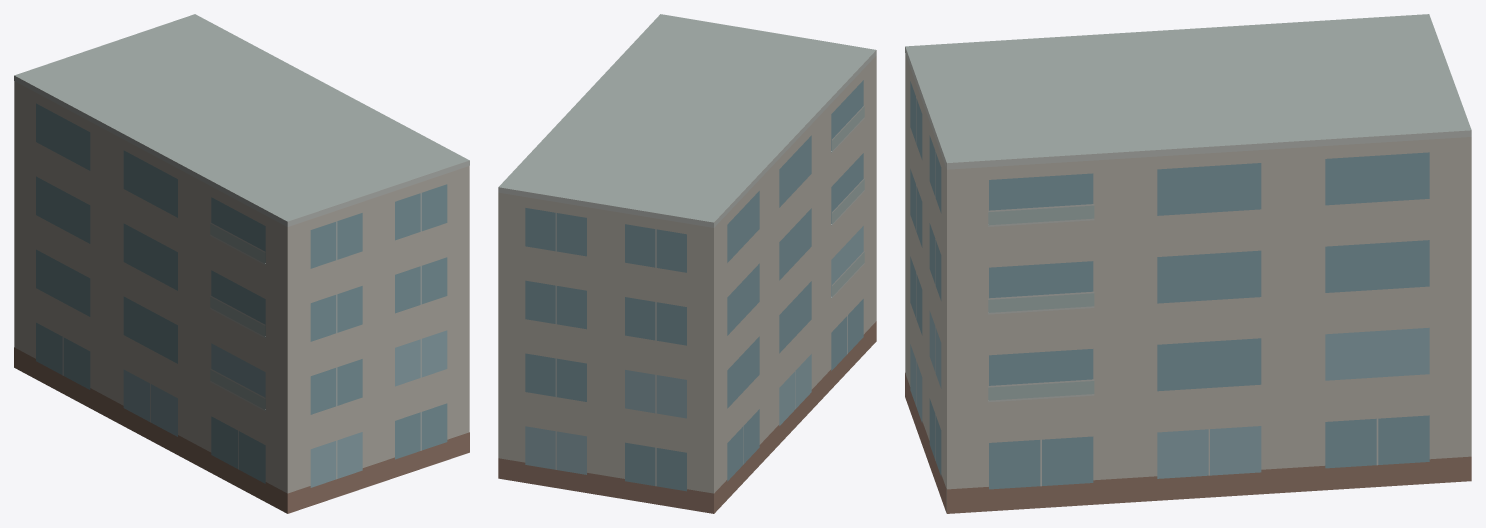
File: survey-upis-32640851.glb
The picture shows the model from 3 angles, left to right: view 1: azimuth 30°, elevation 25°; view 2: azimuth 150°, elevation 25°; view 3: azimuth 270°, elevation 25°; orthographic projection. The views are drawn at different scales.
Visible parts, largest first — view 1: survey-upis-32640851.tmp; view 2: survey-upis-32640851.tmp; view 3: survey-upis-32640851.tmp.
Boxes of the visible parts, <box> form: survey-upis-32640851.tmp: <box>14,14,469,513</box>; survey-upis-32640851.tmp: <box>498,14,876,513</box>; survey-upis-32640851.tmp: <box>905,14,1471,513</box>.
Bounding box in the file's own units: 12.05 × 13.2 × 19.34.
